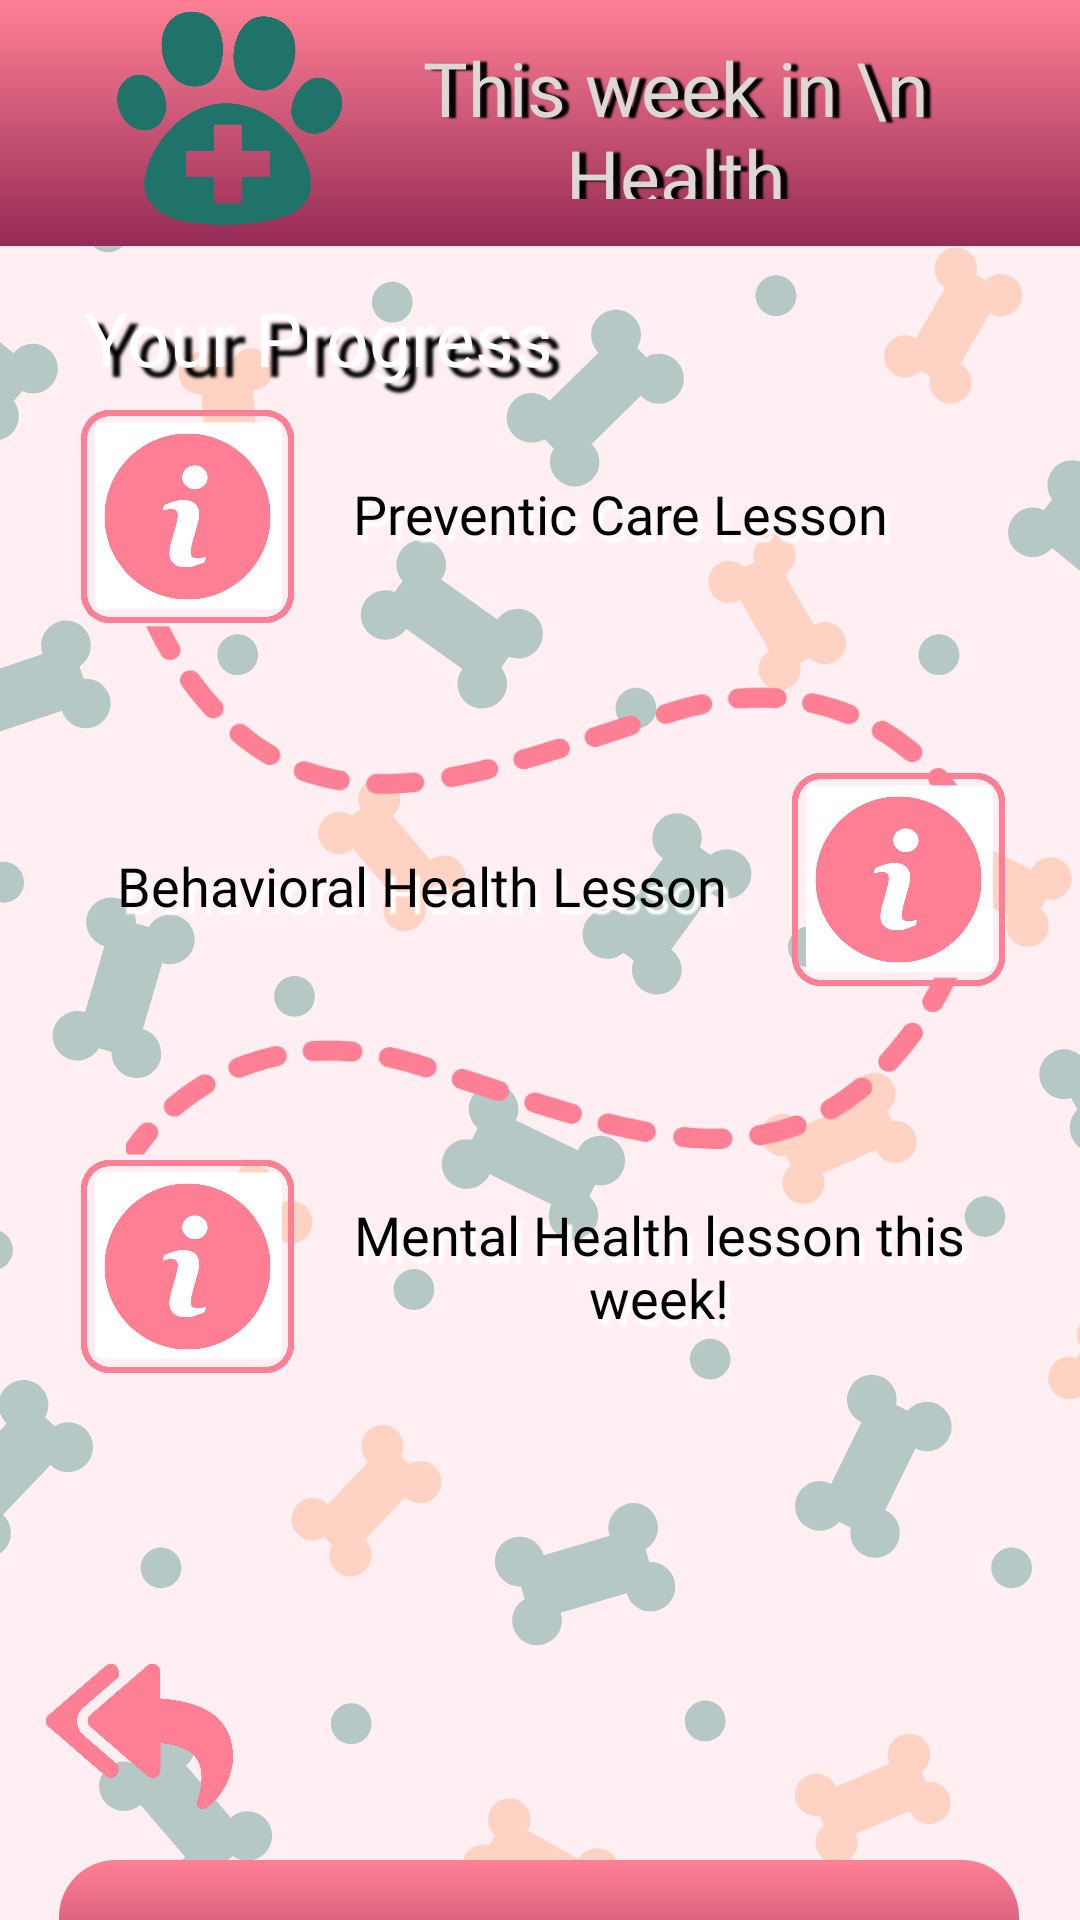

Icon click points for this 1080px x 1920px phone screenshot, format point (x, y):
backbutton: point (141, 1749)
health menu information: point (187, 516), point (898, 879), point (196, 1266)
